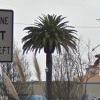Tree: (24, 7, 83, 94)
